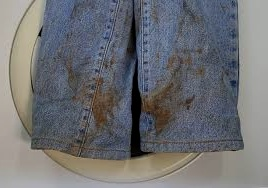earth: (147, 86, 172, 134), (88, 87, 116, 129)
